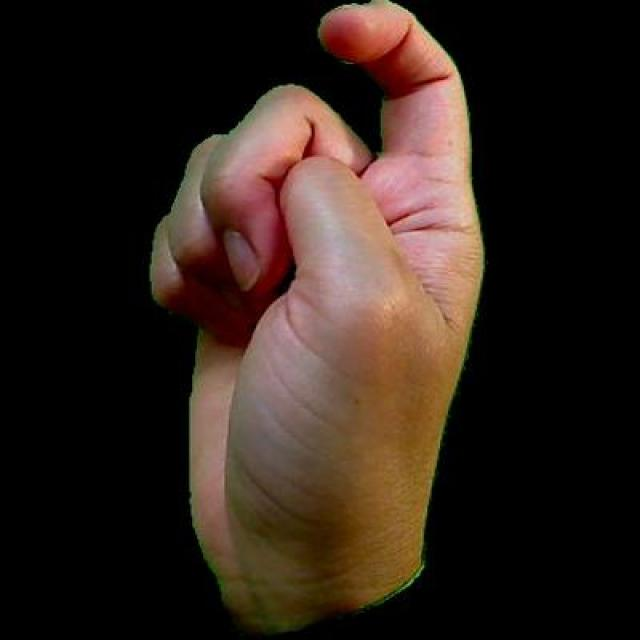x: (125, 0, 496, 637)
